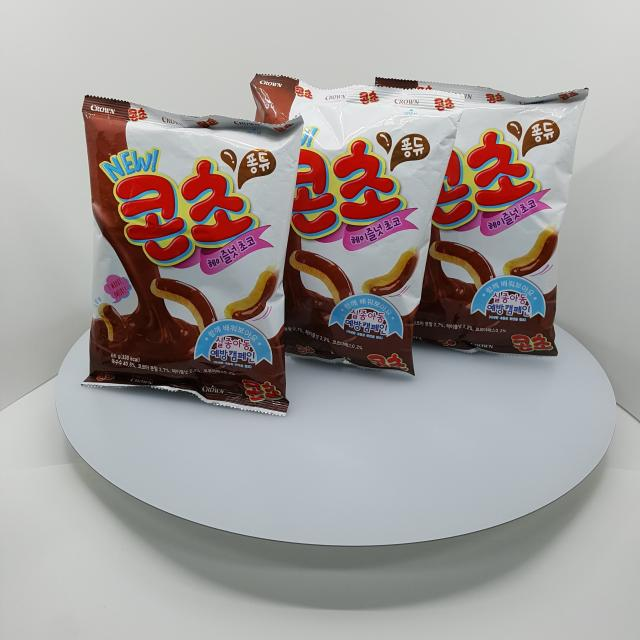-66G: (228, 74, 466, 377), (82, 95, 305, 418), (368, 77, 590, 359)
